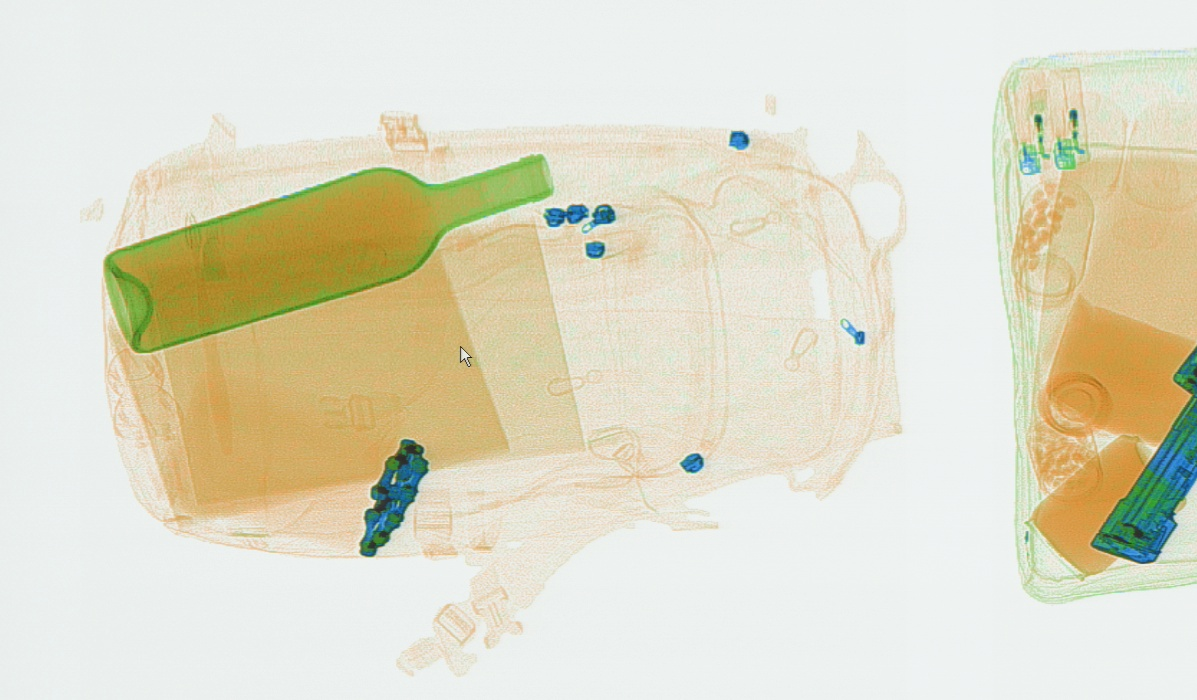lighter: (1009, 63, 1049, 178), (1044, 65, 1086, 171)
